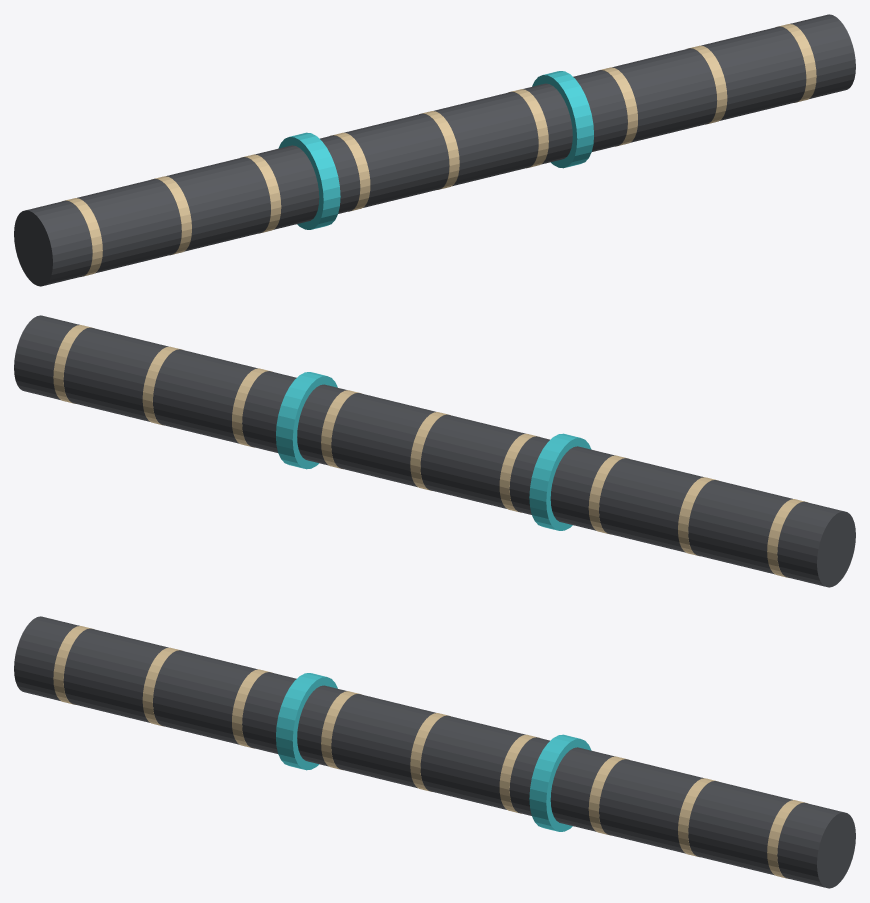
Rendered from larguero.glb.
3 views of the same model, one above another, from view 1: azimuth 30°, elevation 25°; view 2: azimuth 150°, elevation 25°; view 3: azimuth 330°, elevation 25° (orthographic).
Visible parts, largest first — view 1: Larguero; view 2: Larguero; view 3: Larguero.
Boxes of the visible parts, box(x1,y1,x2,y2) form: Larguero: box(14, 14, 855, 286); Larguero: box(14, 315, 855, 587); Larguero: box(14, 616, 855, 888).
Size of the model in its own units: 0.19 by 0.0196 by 0.0196.
